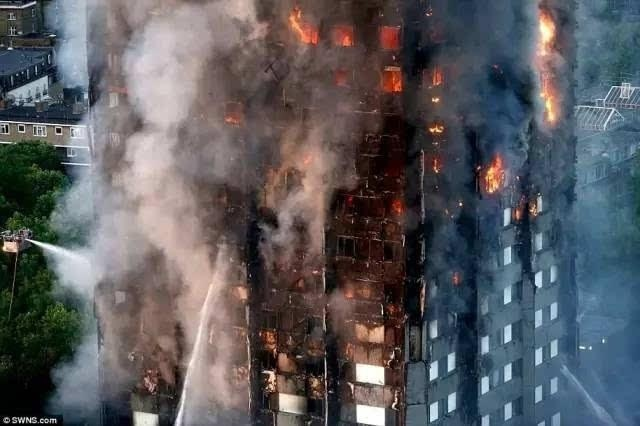fire: (533, 8, 563, 119), (289, 8, 319, 46), (479, 155, 505, 193), (511, 198, 536, 219), (381, 67, 402, 91), (380, 25, 400, 49), (334, 25, 353, 45), (391, 197, 405, 213), (431, 69, 444, 86), (427, 121, 445, 133), (432, 153, 442, 174)
